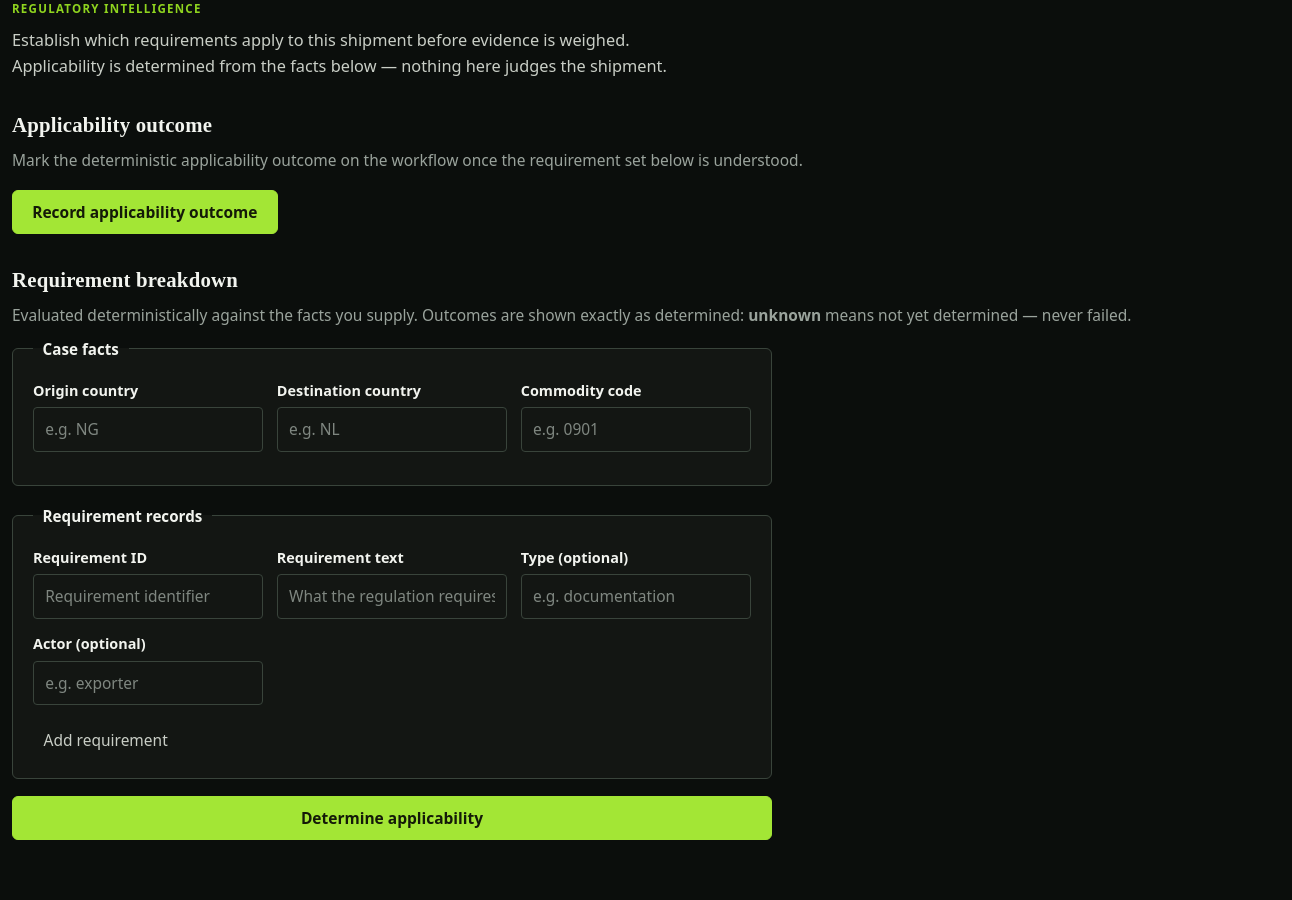
it: RequirementsPage › renders backend outcomes verbatim with unknown as attention
The width and height of the screenshot is (1292, 900).
Type "req-1" into the field labelled "Requirement ID" at (148, 596), box left=33, top=574, right=263, bottom=619
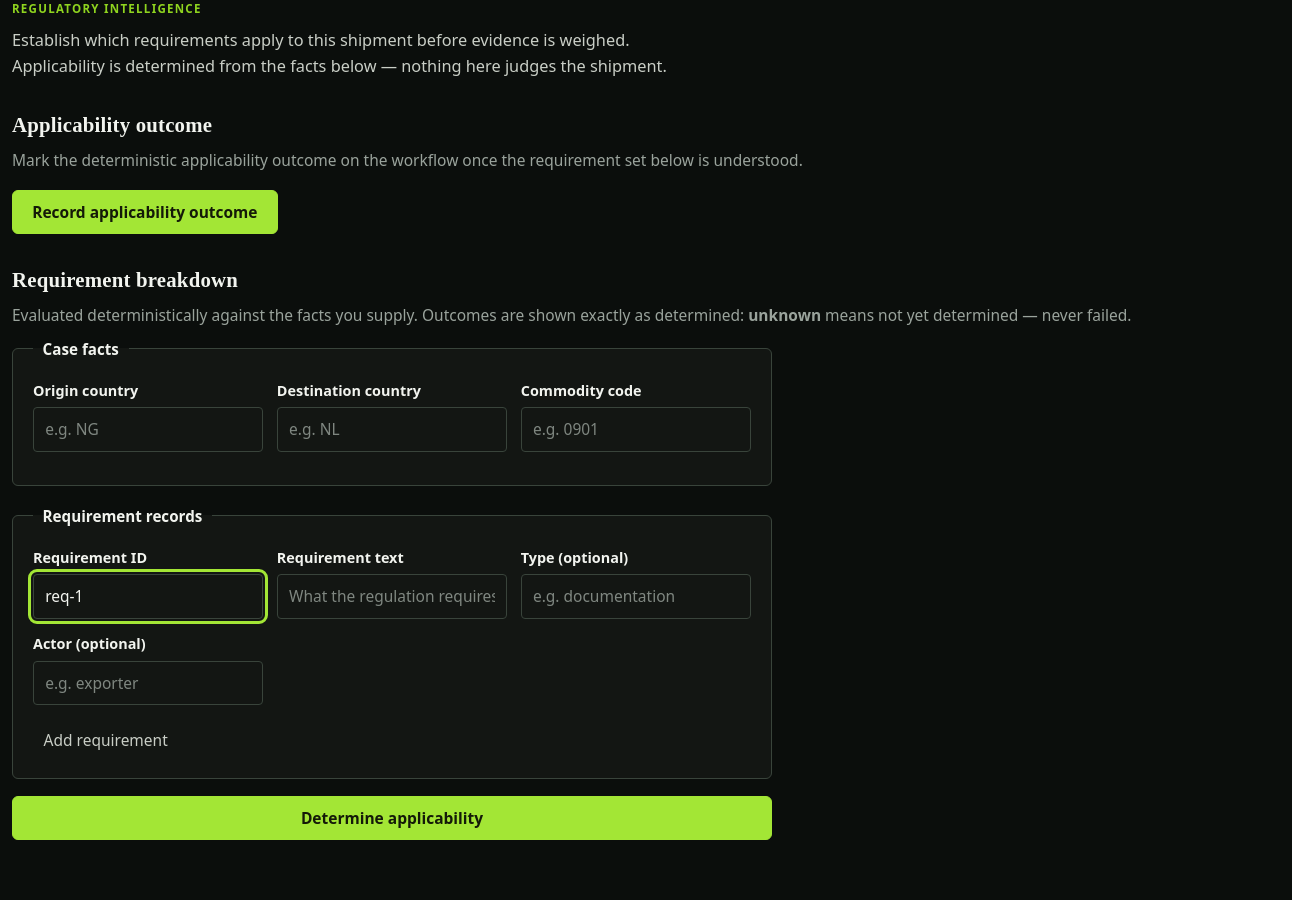
Type "File form X." into the field labelled "Requirement text" at (392, 596), box left=277, top=574, right=507, bottom=619
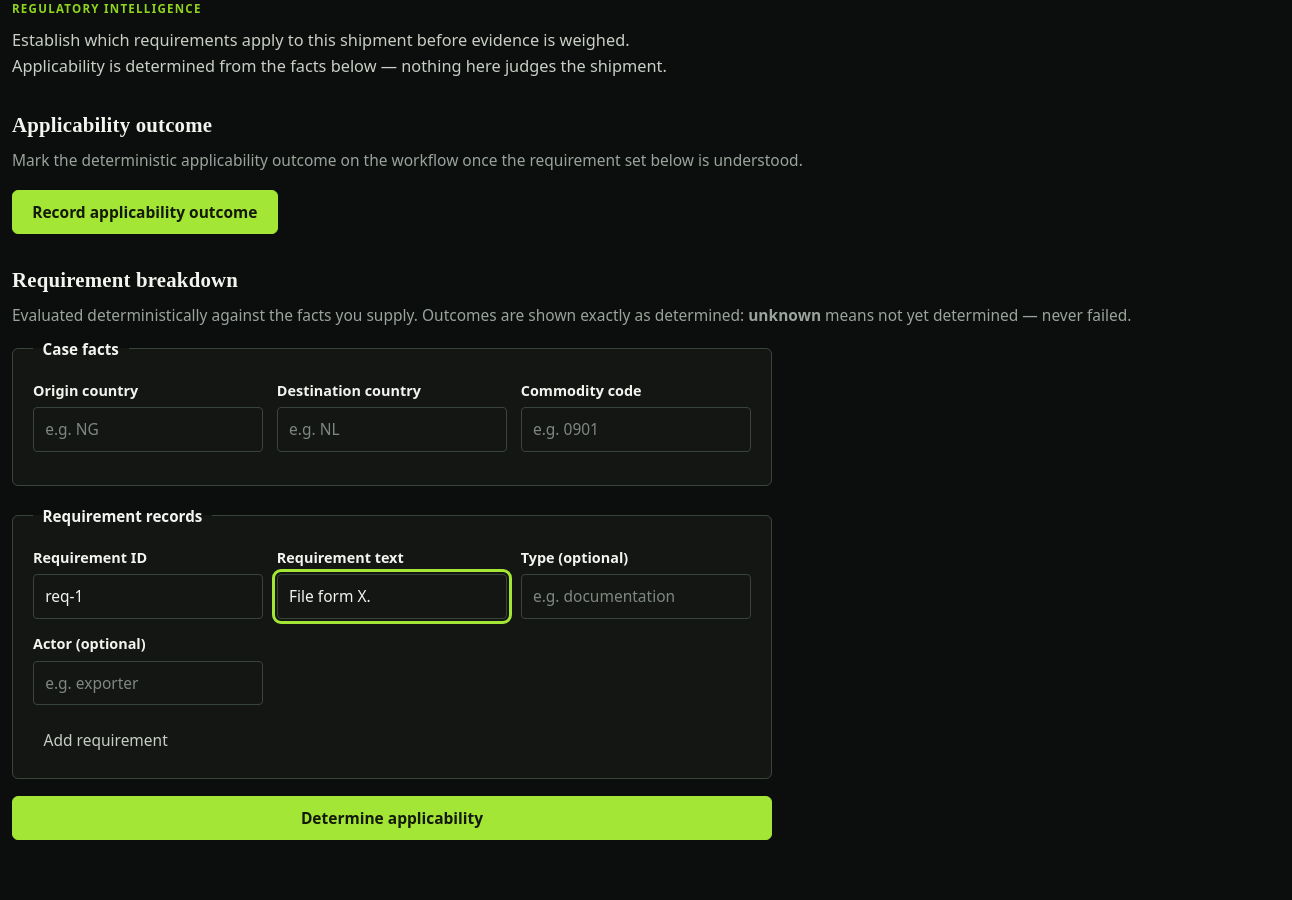
Click the button "Determine applicability" at (392, 818), box left=12, top=796, right=772, bottom=840
(page scrolled)
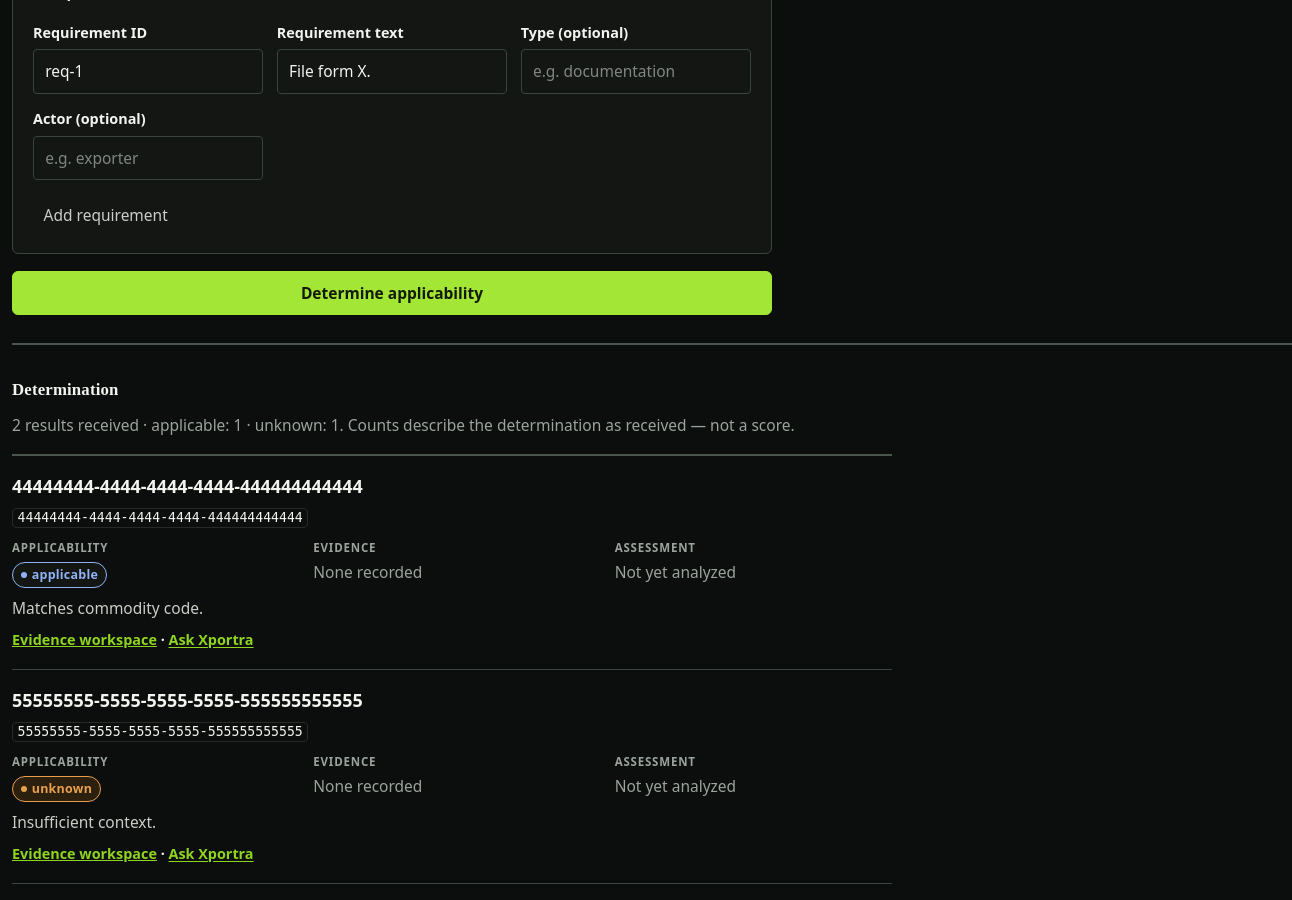
Expected: the text "Matches commodity code." is shown, left=12, top=596, right=203, bottom=618
Expected: the text "Insufficient context." is shown, left=12, top=811, right=156, bottom=833
